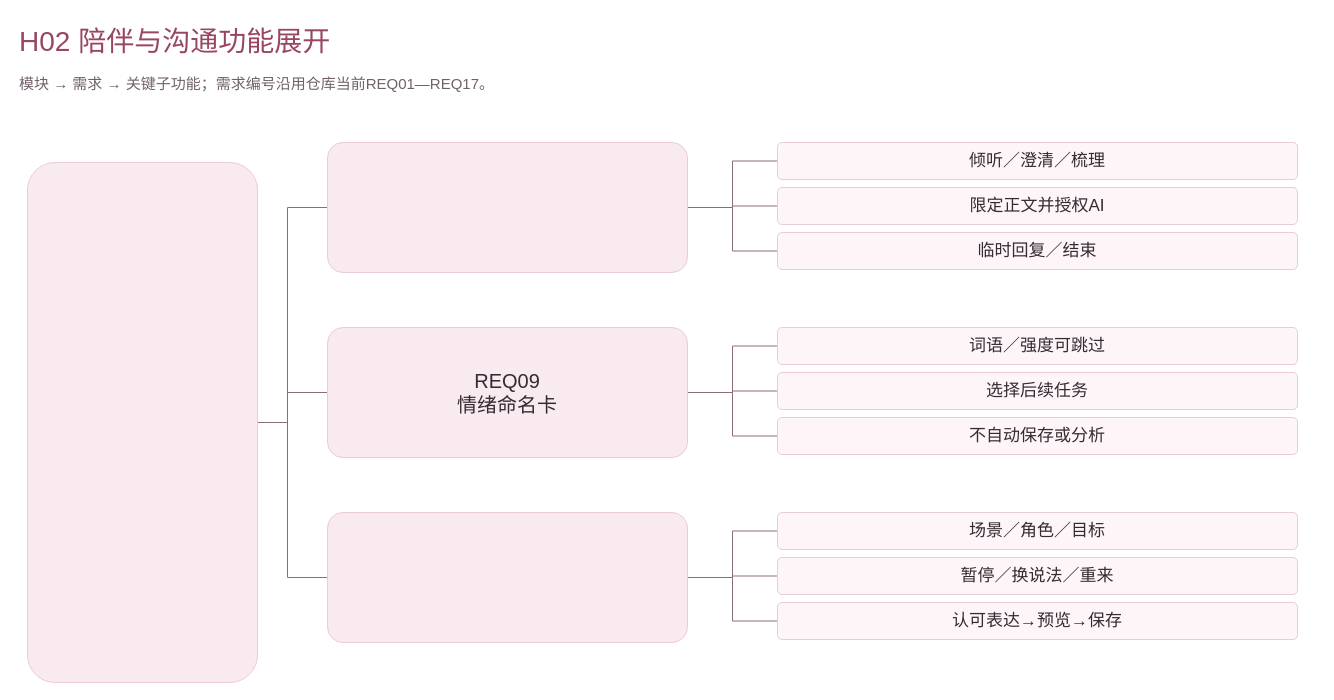
The diagram is 1334 pixels wide and 700 high, and some of its shapes have lost their labels. The centre of each missing label's shape, as x and y in pixels:
REQ01 陪伴交流: point (507, 207)
REQ11 平行宇宙排练室: point (507, 577)
陪伴与沟通: point (142, 422)
